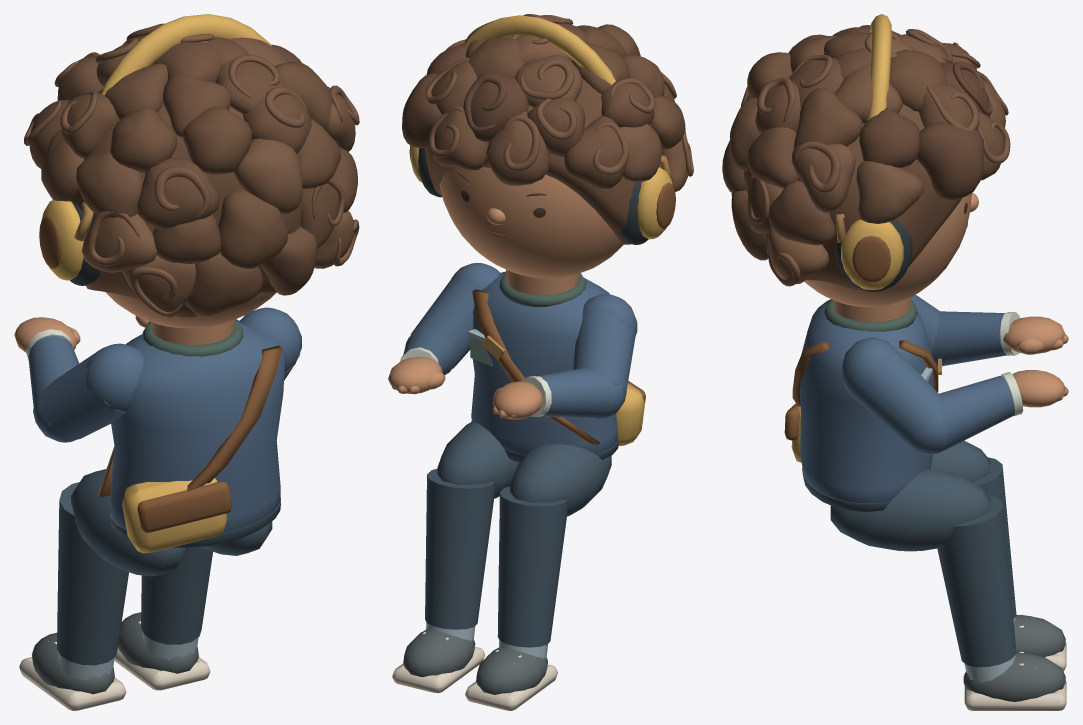
File: employee-1.glb
3 views of the same model, side by side, from view 1: azimuth 30°, elevation 25°; view 2: azimuth 150°, elevation 25°; view 3: azimuth 270°, elevation 25° (orthographic). The views are drawn at different scales.
Visible parts, largest first — view 1: Head, Body, Shin_L, Arm_L, Shin_R, Thigh_L, Foot_L, Foot_R, Forearm_L, Arm_R, Thigh_R; view 2: Head, Body, Shin_R, Shin_L, Thigh_L, Forearm_L, Arm_L, Foot_R, Foot_L, Thigh_R, Arm_R, Forearm_R; view 3: Head, Body, Shin_R, Thigh_R, Arm_R, Forearm_L, Forearm_R, Foot_R, Foot_L, Thigh_L, Shin_L, Arm_L.
Part boxes in pixels (x1=…): Head: x1=24, y1=14, x2=359, y2=328; Body: x1=97, y1=320, x2=284, y2=553; Shin_L: x1=57, y1=482, x2=128, y2=665; Arm_L: x1=33, y1=343, x2=143, y2=442; Shin_R: x1=141, y1=547, x2=212, y2=644; Thigh_L: x1=71, y1=469, x2=188, y2=576; Foot_L: x1=19, y1=632, x2=126, y2=710; Foot_R: x1=114, y1=612, x2=210, y2=690; Forearm_L: x1=14, y1=317, x2=80, y2=412; Arm_R: x1=239, y1=307, x2=301, y2=380; Thigh_R: x1=201, y1=521, x2=272, y2=555; Head: x1=402, y1=14, x2=693, y2=278; Body: x1=468, y1=269, x2=645, y2=462; Shin_R: x1=425, y1=469, x2=495, y2=629; Shin_L: x1=497, y1=486, x2=568, y2=647; Thigh_L: x1=510, y1=444, x2=611, y2=516; Forearm_L: x1=492, y1=367, x2=616, y2=419; Arm_L: x1=573, y1=294, x2=637, y2=419; Foot_R: x1=392, y1=622, x2=484, y2=693; Foot_L: x1=465, y1=640, x2=557, y2=710; Thigh_R: x1=437, y1=421, x2=518, y2=498; Arm_R: x1=404, y1=263, x2=500, y2=373; Forearm_R: x1=388, y1=329, x2=455, y2=394; Head: x1=722, y1=14, x2=1010, y2=307; Body: x1=784, y1=297, x2=941, y2=511; Shin_R: x1=937, y1=495, x2=1016, y2=667; Thigh_R: x1=830, y1=469, x2=990, y2=551; Arm_R: x1=842, y1=337, x2=947, y2=454; Forearm_L: x1=932, y1=311, x2=1068, y2=366; Forearm_R: x1=934, y1=370, x2=1068, y2=452; Foot_R: x1=963, y1=652, x2=1066, y2=710; Foot_L: x1=1013, y1=614, x2=1066, y2=671; Thigh_L: x1=931, y1=440, x2=990, y2=482; Shin_L: x1=973, y1=457, x2=1016, y2=618; Arm_L: x1=911, y1=294, x2=939, y2=353.
Bounding box in the file's own units: 0.864 × 2.02 × 0.96.
